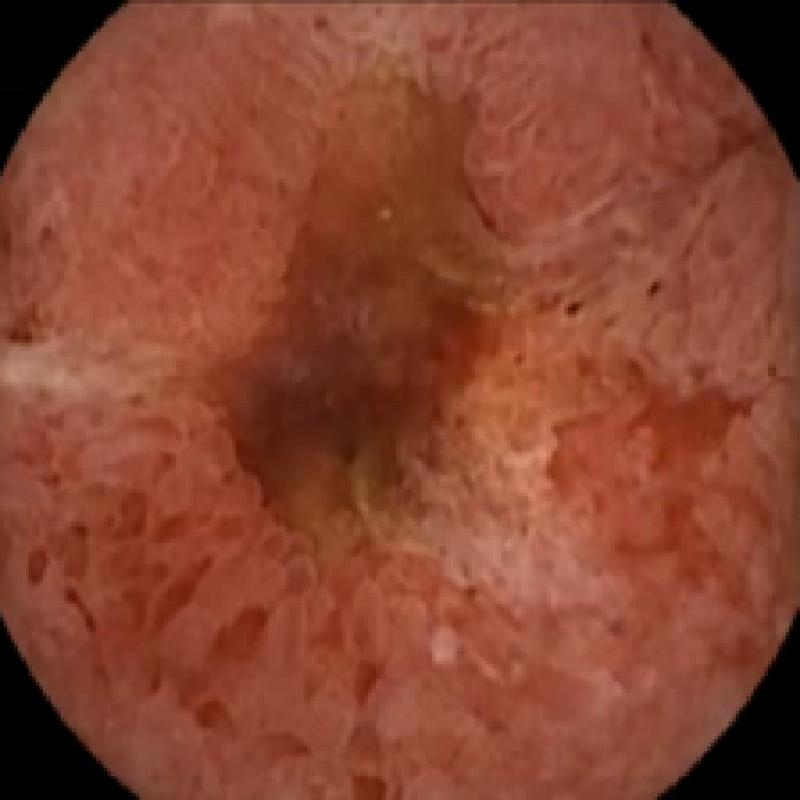bleeding: (54, 218, 775, 800)
